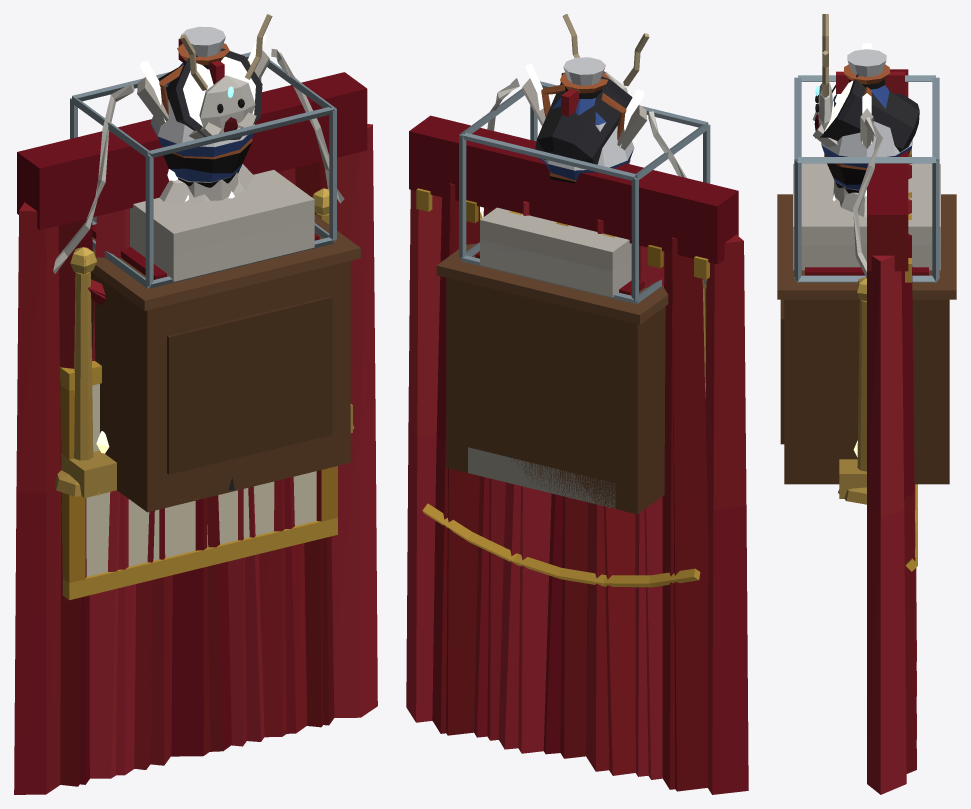
File: museum.glb
3 views of the same model, side by side, from view 1: azimuth 30°, elevation 25°; view 2: azimuth 150°, elevation 25°; view 3: azimuth 270°, elevation 25° (orthographic). The views are drawn at different scales.
Parts seen in each view (by area): view 1: museum_curtain_a, museum_display_case_a, museum_curtain_b, museum_painting_a, museum_pedestal_vase_a, museum_pedestal_bust_a, museum_statue_b, museum_rope_posts_b, museum_statue_a, museum_pedestal_vase_b, museum_spotlight_a, museum_footlights_a (+1 smaller); view 2: museum_curtain_a, museum_display_case_a, museum_curtain_b, museum_pedestal_vase_a, museum_statue_b, museum_spotlight_a, museum_pedestal_bust_a, museum_pedestal_vase_b, museum_statue_a, museum_display_case_b; view 3: museum_display_case_a, museum_curtain_a, museum_pedestal_vase_a, museum_spotlight_a, museum_pedestal_vase_b, museum_pedestal_bust_a, museum_rope_posts_b, museum_statue_b, museum_statue_a, museum_footlights_a, museum_pedestal_bust_b.
Boxes of the visible parts, box(x1,y1,x2,y2) form: museum_curtain_a: box(14, 72, 377, 794); museum_display_case_a: box(70, 52, 360, 512); museum_curtain_b: box(79, 162, 323, 784); museum_painting_a: box(60, 359, 337, 600); museum_pedestal_vase_a: box(130, 43, 314, 260); museum_pedestal_bust_a: box(92, 164, 314, 281); museum_statue_b: box(180, 14, 272, 498); museum_rope_posts_b: box(55, 188, 329, 496); museum_statue_a: box(53, 49, 344, 273); museum_pedestal_vase_b: box(150, 26, 254, 182); museum_spotlight_a: box(158, 48, 262, 490); museum_footlights_a: box(61, 404, 352, 497); museum_curtain_a: box(406, 115, 748, 794); museum_display_case_a: box(436, 81, 710, 514); museum_curtain_b: box(446, 183, 675, 789); museum_pedestal_vase_a: box(480, 72, 631, 275); museum_statue_b: box(468, 14, 649, 508); museum_spotlight_a: box(535, 72, 632, 164); museum_pedestal_bust_a: box(480, 239, 631, 297); museum_pedestal_vase_b: box(539, 57, 634, 180); museum_statue_a: box(487, 78, 706, 286); museum_display_case_b: box(525, 63, 644, 146); museum_display_case_a: box(777, 75, 956, 484); museum_curtain_a: box(867, 69, 917, 794); museum_pedestal_vase_a: box(793, 64, 940, 246); museum_spotlight_a: box(815, 74, 919, 152); museum_pedestal_vase_b: box(821, 49, 912, 190); museum_pedestal_bust_a: box(793, 192, 940, 270); museum_rope_posts_b: box(838, 277, 866, 493); museum_statue_b: box(812, 14, 848, 201); museum_statue_a: box(853, 108, 882, 278); museum_footlights_a: box(839, 440, 866, 498); museum_pedestal_bust_b: box(836, 71, 904, 93).
Size of the model in its own units: 1.11 by 2.19 by 0.5199.
